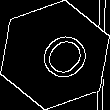O_SW: (21, 22, 89, 88)
